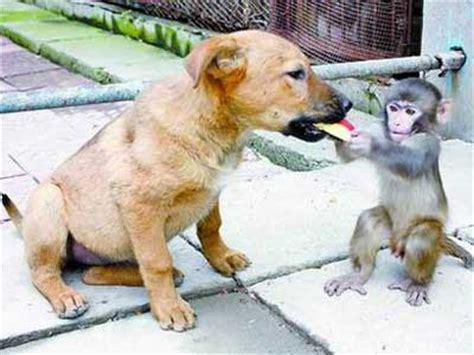dog: (3, 30, 350, 330)
monkey: (325, 79, 471, 304)
